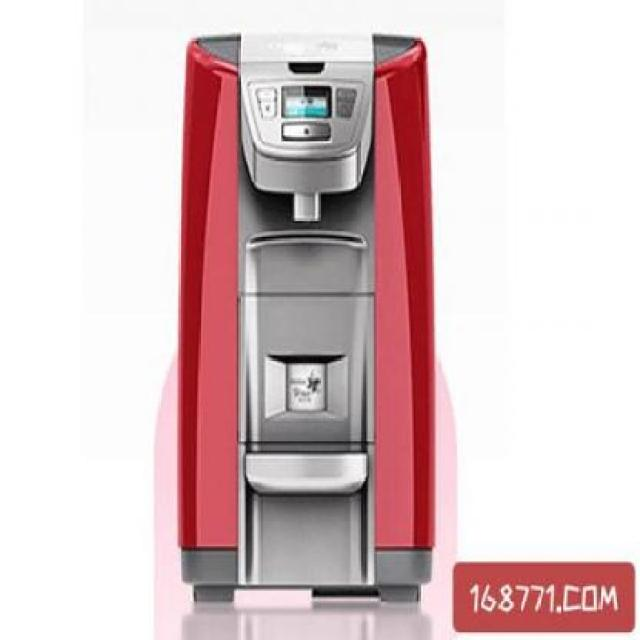cooler: (172, 25, 441, 617)
